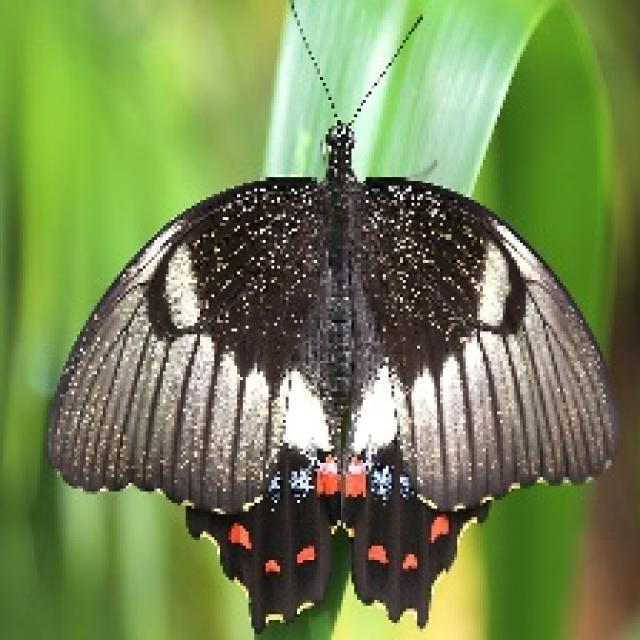butterfly: (42, 0, 617, 631)
